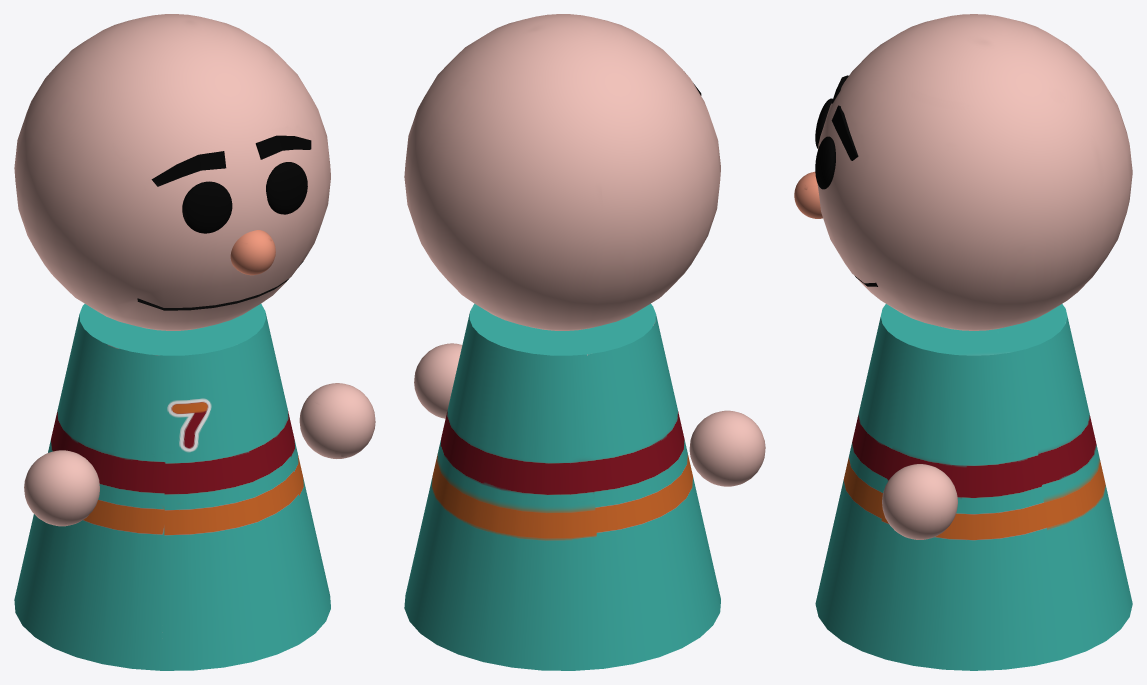
Rendered from 711panic_character.glb.
3 renders of one model, left to right at view 1: azimuth 30°, elevation 25°; view 2: azimuth 150°, elevation 25°; view 3: azimuth 270°, elevation 25°, orthographic.
Visible parts, largest first — view 1: Sphere.001; view 2: Sphere.001; view 3: Sphere.001.
Part boxes in pixels (x1,y1,x2,y2): Sphere.001: [14, 14, 375, 670]; Sphere.001: [404, 14, 765, 670]; Sphere.001: [794, 14, 1132, 670].
Size of the model in its own units: 2.48 by 4 by 2.13.
1 material, 1 textured.
